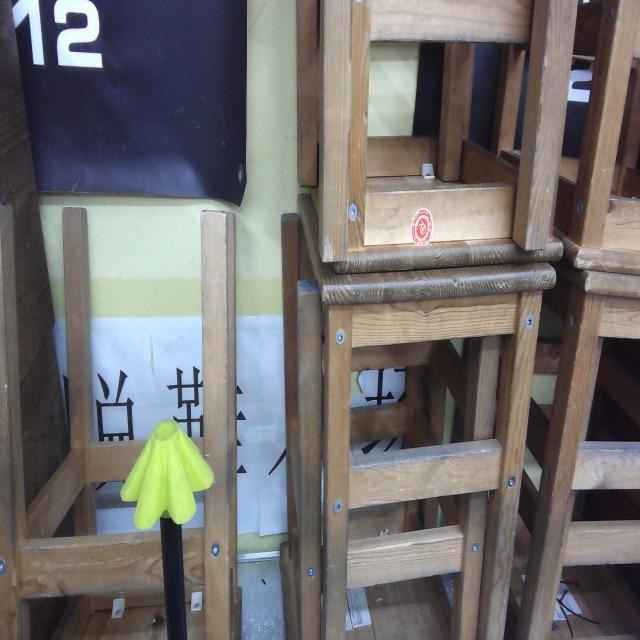Yellow-Stake-Head: (120, 420, 214, 531)
